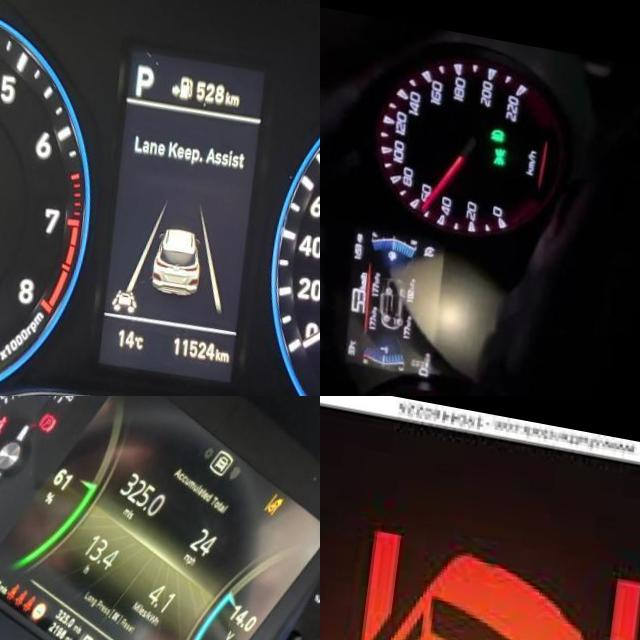Seat Belt: (0, 406, 15, 431), (13, 574, 29, 593), (23, 578, 38, 598), (33, 586, 46, 606)
